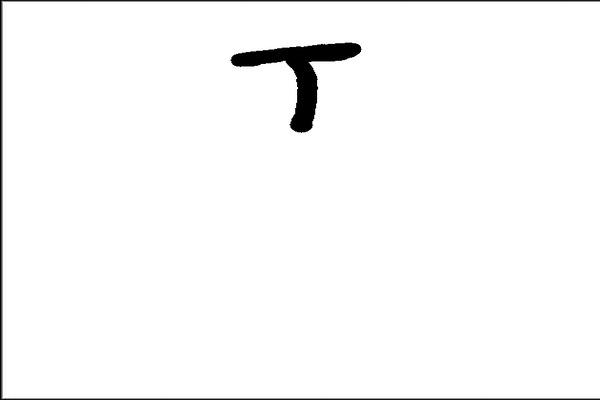T: (223, 33, 371, 135)
